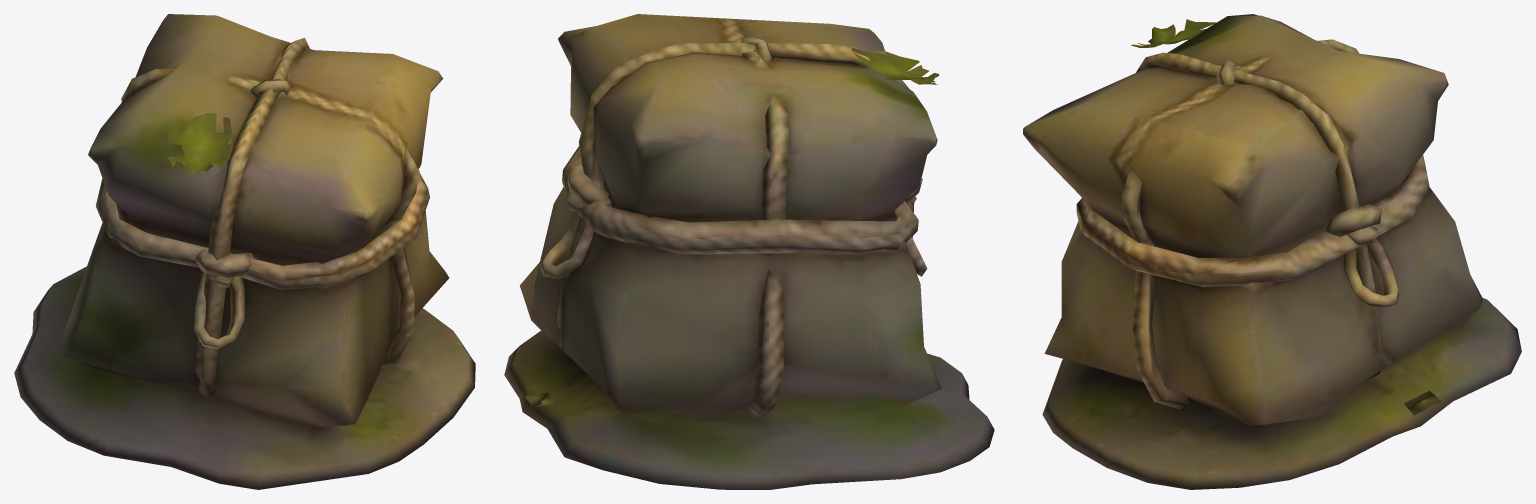
The model's file is wyn_quest_supply_bundle.glb.
3 views of the same model, side by side, from view 1: azimuth 30°, elevation 25°; view 2: azimuth 150°, elevation 25°; view 3: azimuth 270°, elevation 25° (orthographic). The views are drawn at different scales.
Parts seen in each view (by area): view 1: tripo_node_447d91f7-0d5b-430d-8ae4-6c51a41aab7c; view 2: tripo_node_447d91f7-0d5b-430d-8ae4-6c51a41aab7c; view 3: tripo_node_447d91f7-0d5b-430d-8ae4-6c51a41aab7c.
Boxes of the visible parts, <box> form: tripo_node_447d91f7-0d5b-430d-8ae4-6c51a41aab7c: <box>14,14,475,489</box>; tripo_node_447d91f7-0d5b-430d-8ae4-6c51a41aab7c: <box>504,14,994,489</box>; tripo_node_447d91f7-0d5b-430d-8ae4-6c51a41aab7c: <box>1023,14,1521,489</box>.
Size of the model in its own units: 0.6822 by 0.55 by 0.6973.
1 material, 1 textured.
